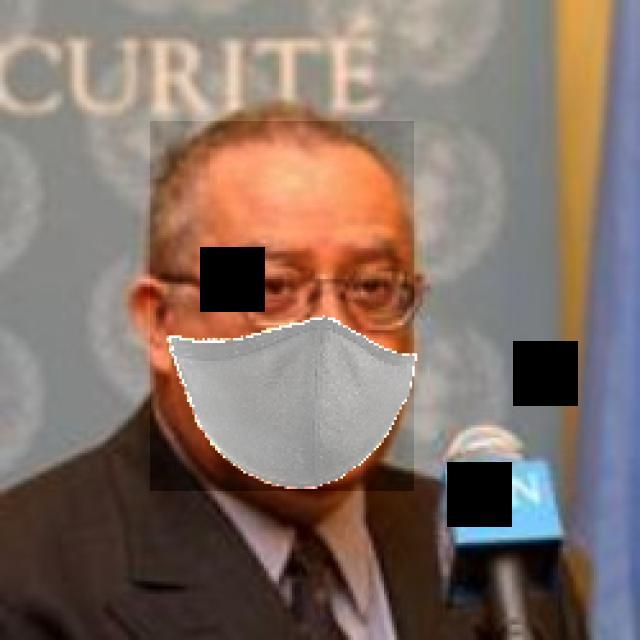cloth: (150, 121, 414, 491)
